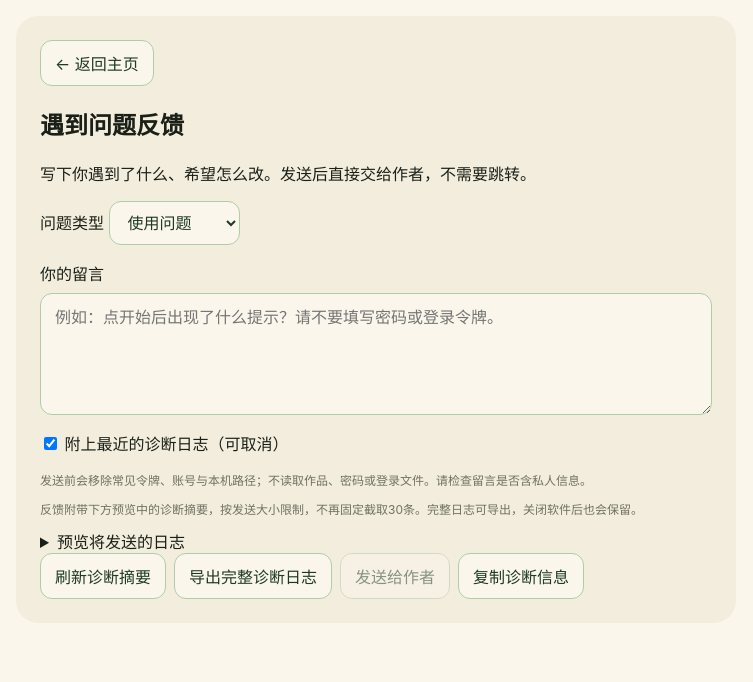
feedback interaction (mock transport; no actual messages) › sends no diagnostics when fan opts out and offers copying on endpoint failure
Type "测试反馈：请改善安装说明" into the text box labelled "你的留言" at (376,354), box [40,293,712,415]
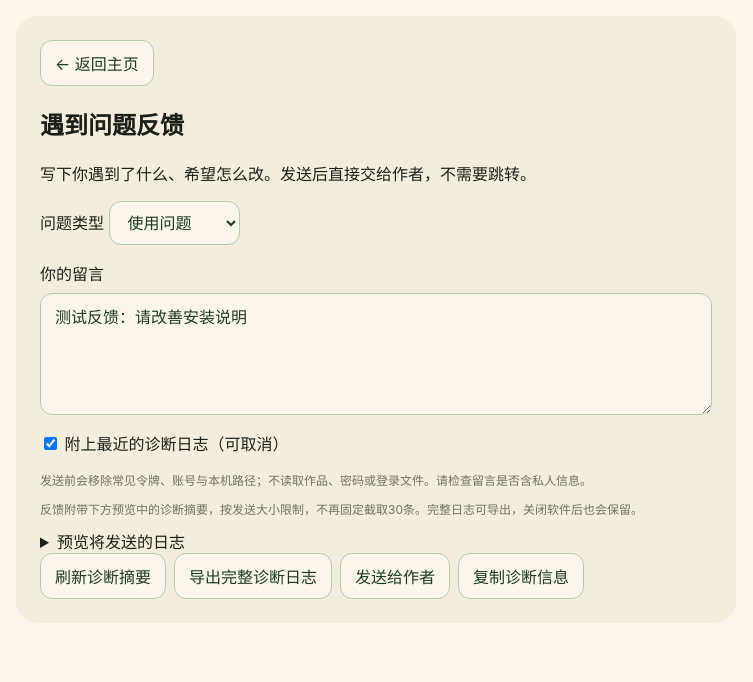
Click the checkbox labelled "附上最近的诊断日志（可取消）" at (50,443), box [44,437,57,450]
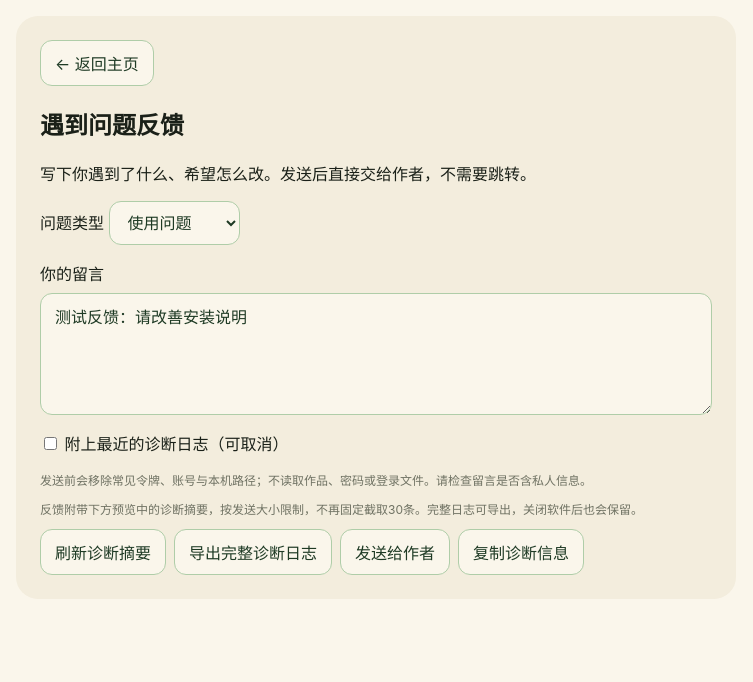
Click the button "发送给作者" at (395,552), box [340,529,450,575]
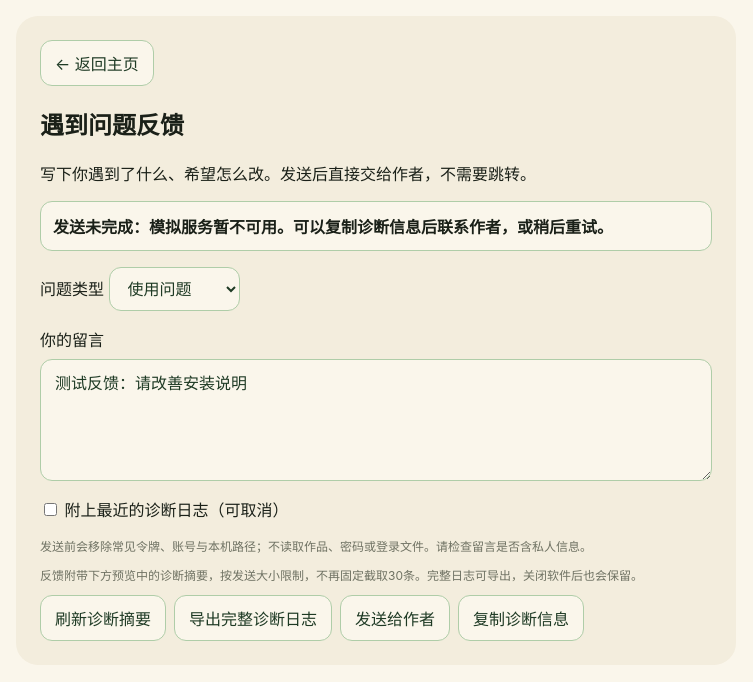
Expected: the message "发送未完成：模拟服务暂不可用。可以复制诊断信息后联系作者，或稍后重试。" is shown, [40,201,712,251]
Click the button "复制诊断信息" at (521,618), box [458,595,584,641]
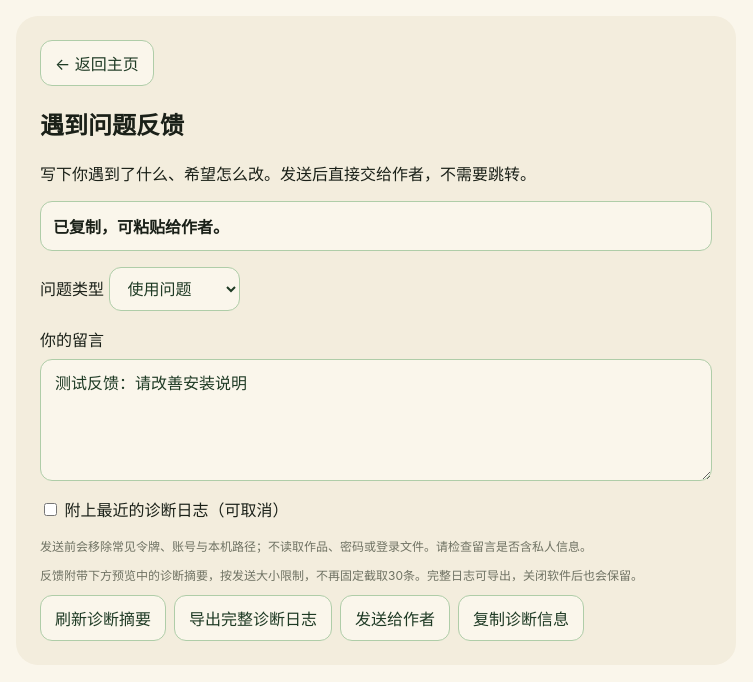
Expected: the message "已复制，可粘贴给作者。" is shown, [40,201,712,251]
